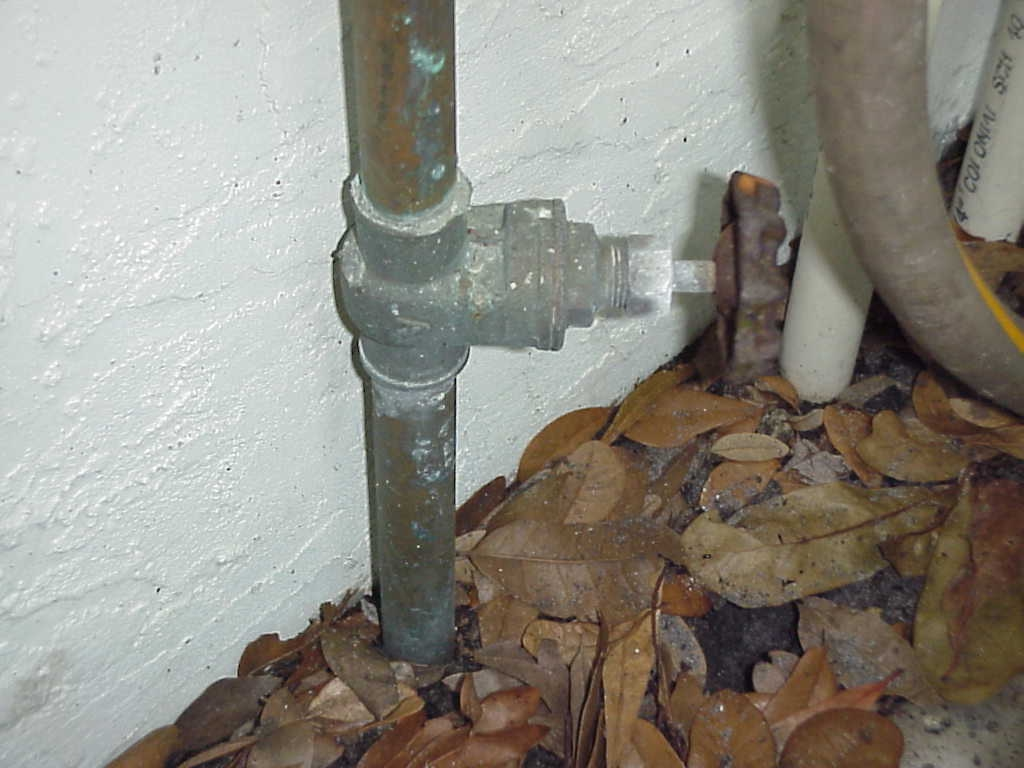Low: (337, 2, 464, 210), (365, 389, 463, 613)
